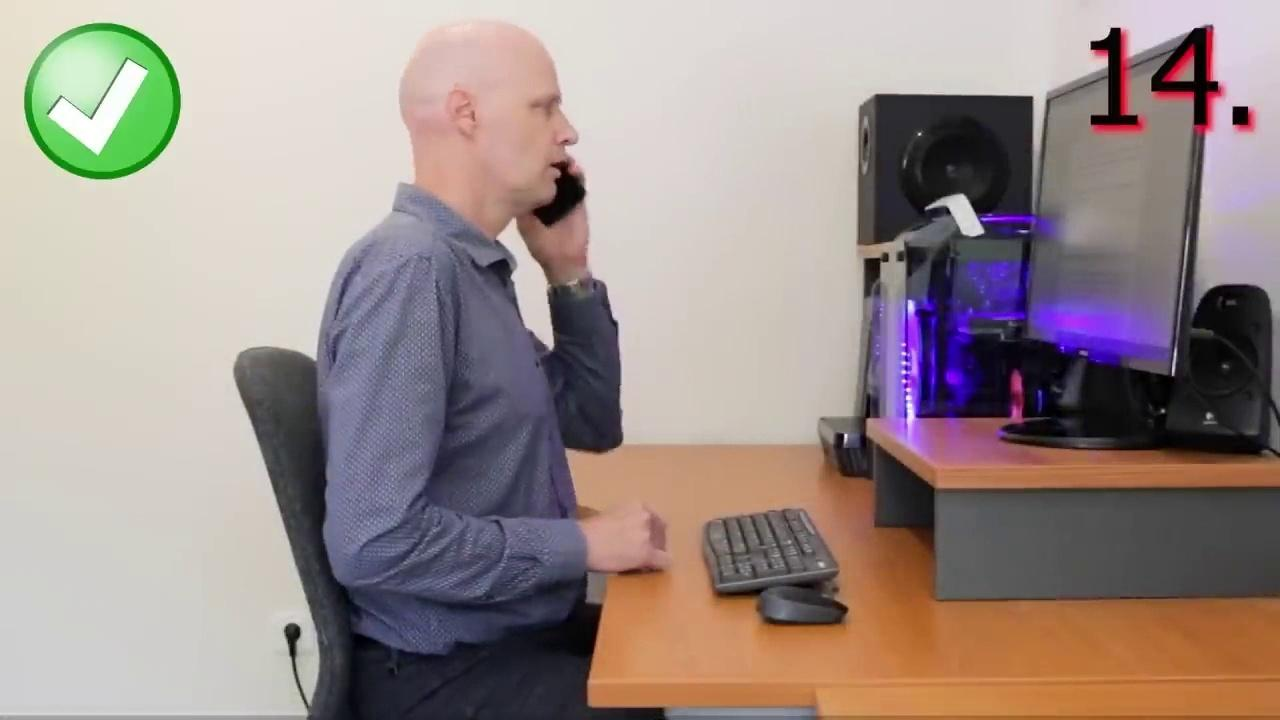GoodPosture: (317, 21, 669, 719)
